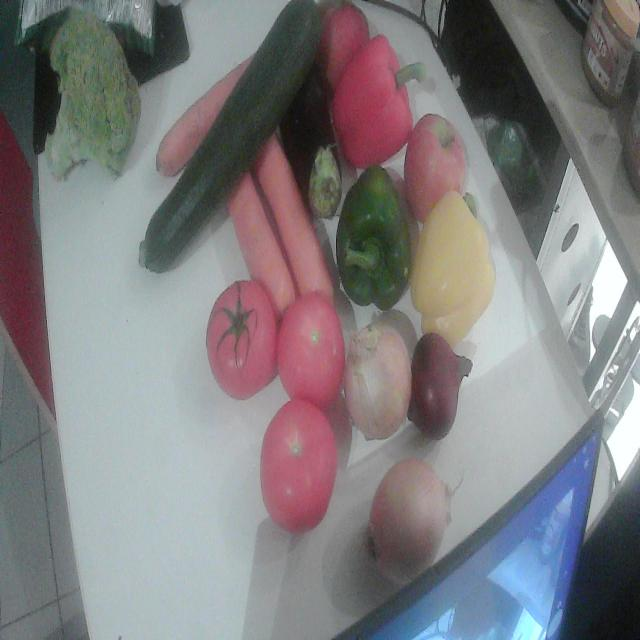Apple: (404, 114, 466, 223)
Bell Pepper: (410, 191, 496, 350), (336, 166, 413, 309), (332, 36, 412, 168)
Broccoli: (45, 8, 140, 179)
Carrot: (251, 134, 333, 303), (156, 55, 254, 176), (228, 172, 296, 317)
Courgette: (141, 0, 320, 272)
Eggplant: (280, 80, 342, 218)
Onion: (367, 458, 452, 586), (345, 322, 410, 438), (408, 333, 472, 439)
Tomato: (260, 400, 337, 533), (206, 280, 278, 399), (276, 293, 344, 409)
